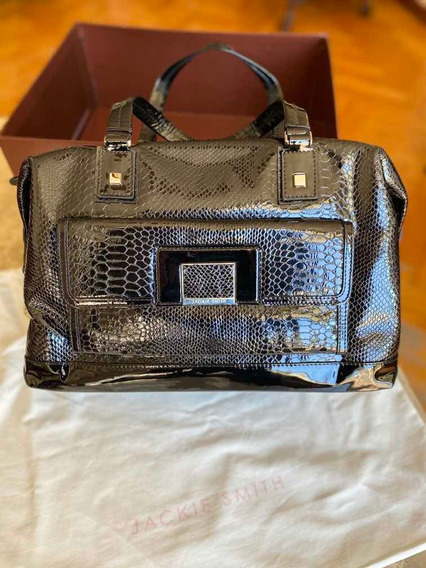cartera: (11, 88, 408, 398)
